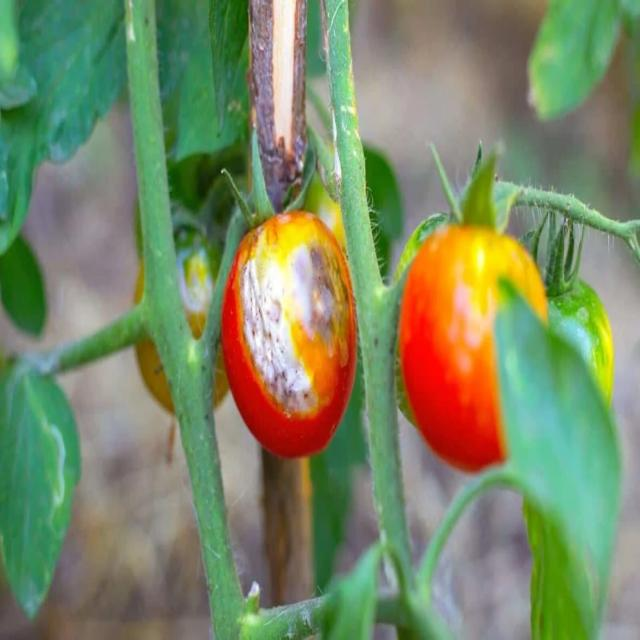damaged: (224, 203, 356, 467)
overripe: (400, 205, 555, 478)
